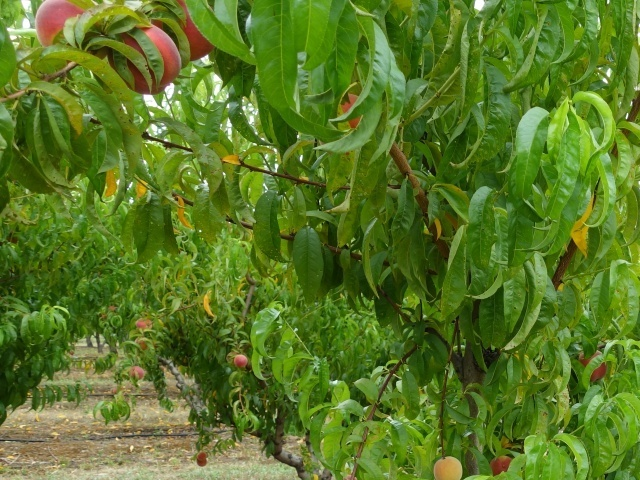peach: (107, 23, 181, 98), (144, 1, 224, 64), (29, 1, 96, 52), (331, 86, 367, 132), (577, 347, 610, 385), (431, 454, 465, 480), (485, 450, 515, 478), (230, 352, 249, 373)
